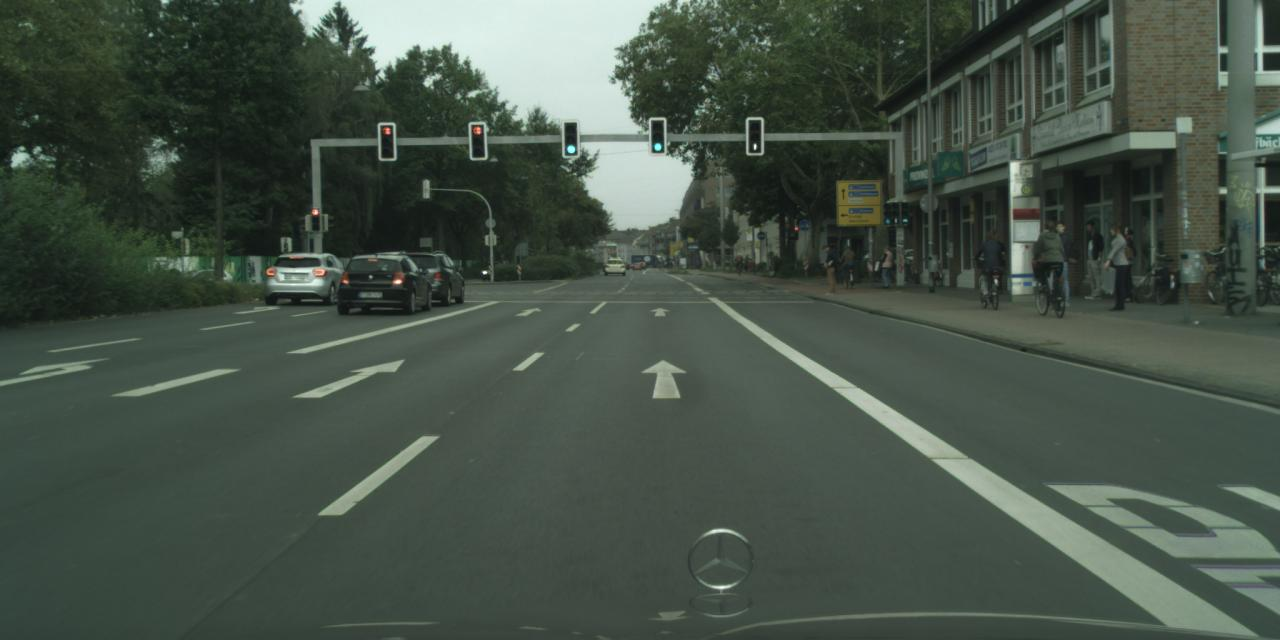ped: (1043, 218, 1078, 306), (1100, 222, 1134, 310), (1034, 220, 1066, 297), (1076, 220, 1106, 298), (1111, 226, 1141, 302), (976, 231, 1003, 297), (982, 231, 1008, 293), (817, 244, 837, 294), (878, 245, 894, 288), (840, 244, 854, 280), (742, 254, 750, 274), (735, 252, 743, 271)
